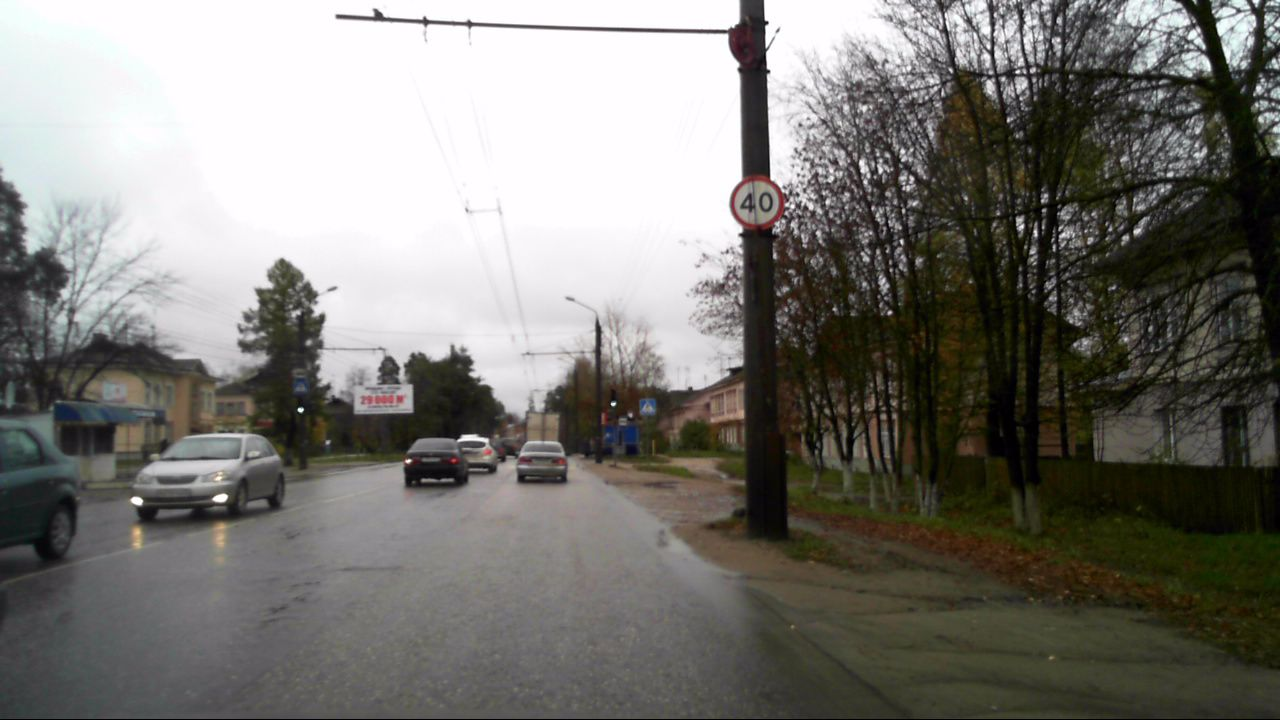speed_warning_40: (728, 175, 786, 232)
